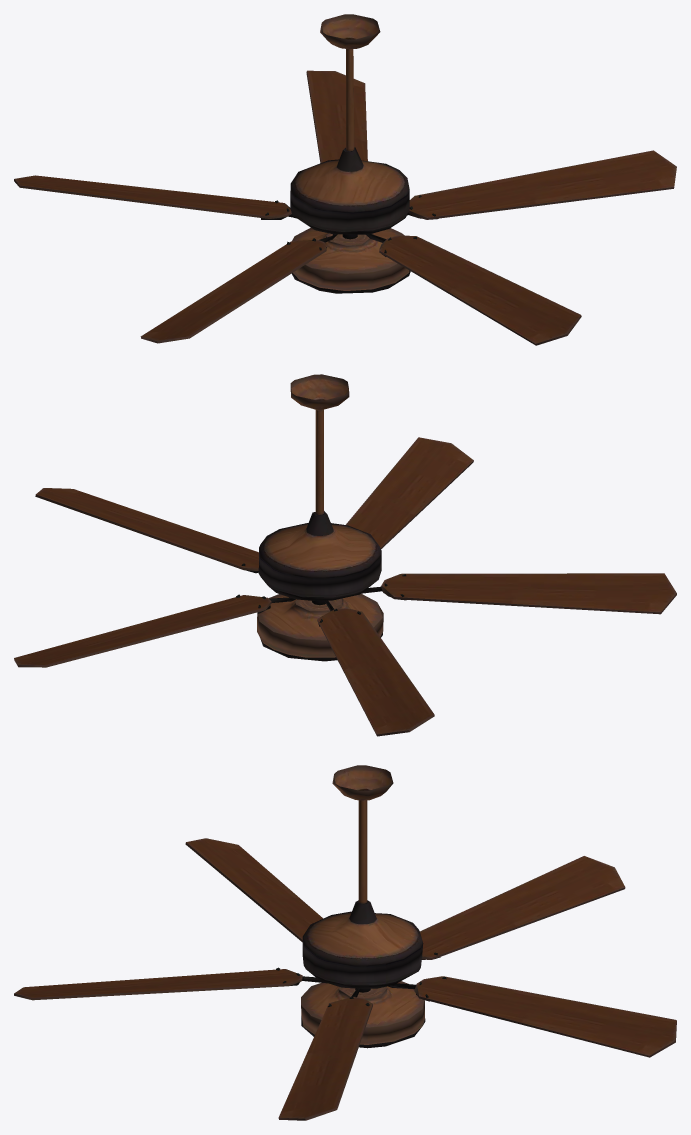
3 views of the same model, one above another, from view 1: azimuth 30°, elevation 25°; view 2: azimuth 150°, elevation 25°; view 3: azimuth 270°, elevation 25° (orthographic). The views are drawn at different scales.
Parts seen in each view (by area): view 1: Bistro_Research_Interior_Paris_CeilingFan_01A_Blades_mesh_01, Bistro_Research_Interior_Paris_CeilingFan_01A_Base_mesh_01__; view 2: Bistro_Research_Interior_Paris_CeilingFan_01A_Blades_mesh_01, Bistro_Research_Interior_Paris_CeilingFan_01A_Base_mesh_01__; view 3: Bistro_Research_Interior_Paris_CeilingFan_01A_Blades_mesh_01, Bistro_Research_Interior_Paris_CeilingFan_01A_Base_mesh_01__.
Boxes of the visible parts, x1,y1,x2,y2 form: Bistro_Research_Interior_Paris_CeilingFan_01A_Blades_mesh_01: [14, 70, 676, 345]; Bistro_Research_Interior_Paris_CeilingFan_01A_Base_mesh_01__: [290, 14, 410, 293]; Bistro_Research_Interior_Paris_CeilingFan_01A_Blades_mesh_01: [14, 437, 676, 736]; Bistro_Research_Interior_Paris_CeilingFan_01A_Base_mesh_01__: [257, 374, 383, 661]; Bistro_Research_Interior_Paris_CeilingFan_01A_Blades_mesh_01: [14, 838, 676, 1120]; Bistro_Research_Interior_Paris_CeilingFan_01A_Base_mesh_01__: [301, 765, 425, 1048].
Size of the model in its own units: 1.41 by 0.5983 by 1.41.
1 material, 1 textured.
